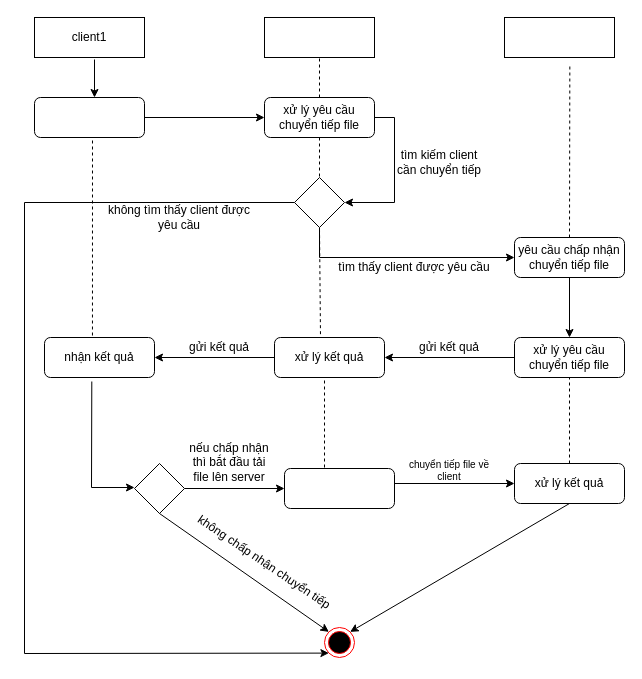
This 642x679 diagram has some shape labels left out. Each missing label, with the box of its shape:
client2: (504, 16, 614, 58)
nhận file chuyển tiếp: (284, 468, 394, 508)
server: (264, 16, 374, 58)
yêu cầu chuyển tiếp file: (34, 96, 144, 138)
